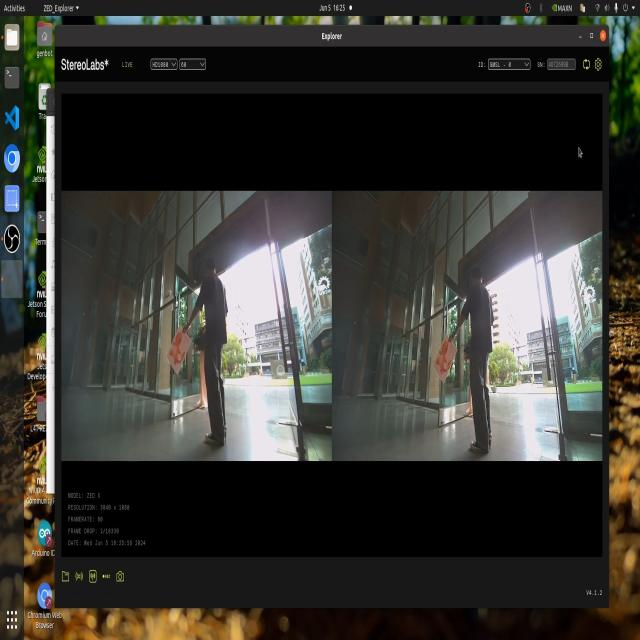red: (433, 338, 456, 376), (169, 333, 187, 366)
